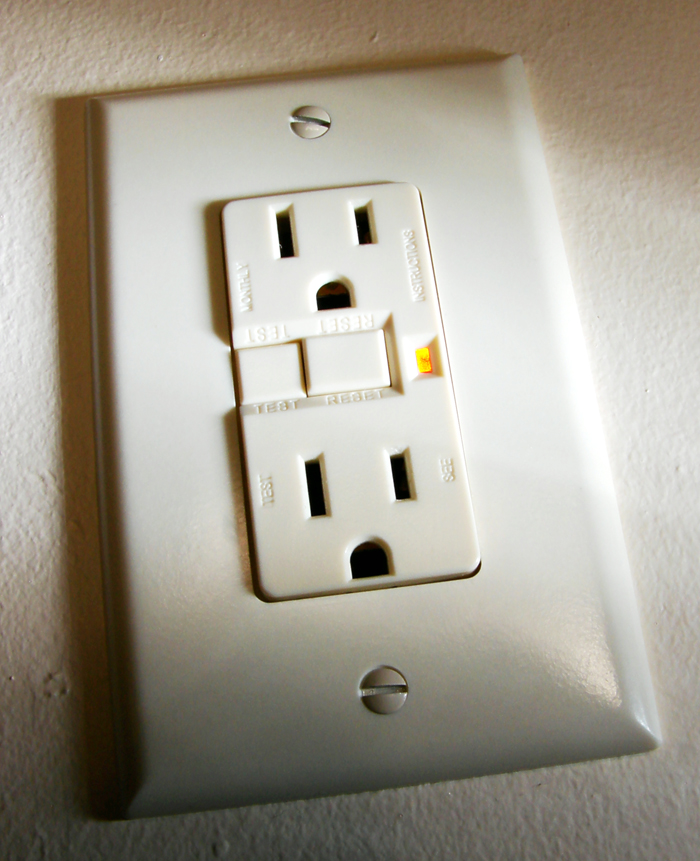outlet: (293, 435, 427, 585), (261, 196, 381, 318)
